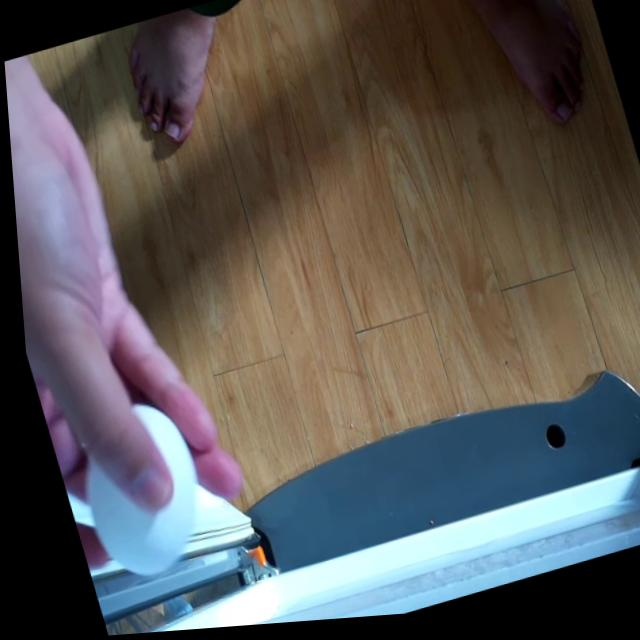egg: (53, 397, 208, 592)
